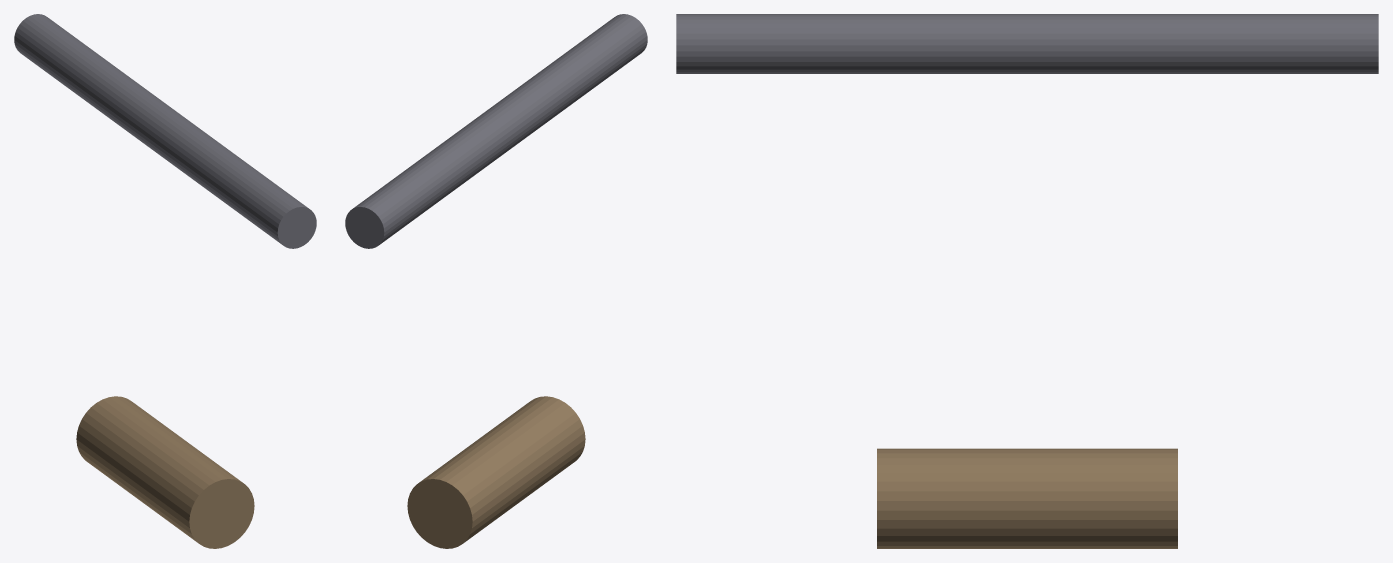
The model's file is weapon_bat.glb.
3 views of the same model, side by side, from view 1: azimuth 30°, elevation 25°; view 2: azimuth 150°, elevation 25°; view 3: azimuth 270°, elevation 25° (orthographic). The views are drawn at different scales.
Parts seen in each view (by area): view 1: geometry_0; view 2: geometry_0; view 3: geometry_0.
Boxes of the visible parts, bbox=[...] form: geometry_0: bbox=[14, 14, 316, 548]; geometry_0: bbox=[345, 14, 647, 548]; geometry_0: bbox=[676, 14, 1378, 548].
Bounding box in the file's own units: 0.1 × 0.58 × 0.7.
